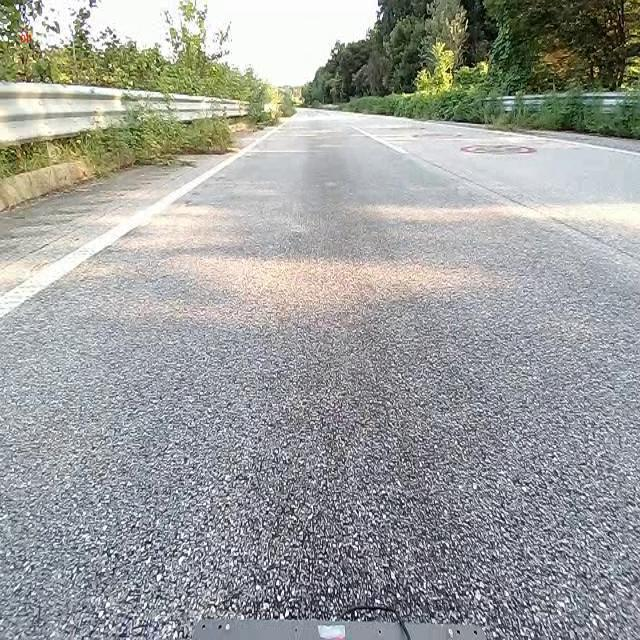Lane: (0, 117, 279, 319), (0, 128, 277, 319)
